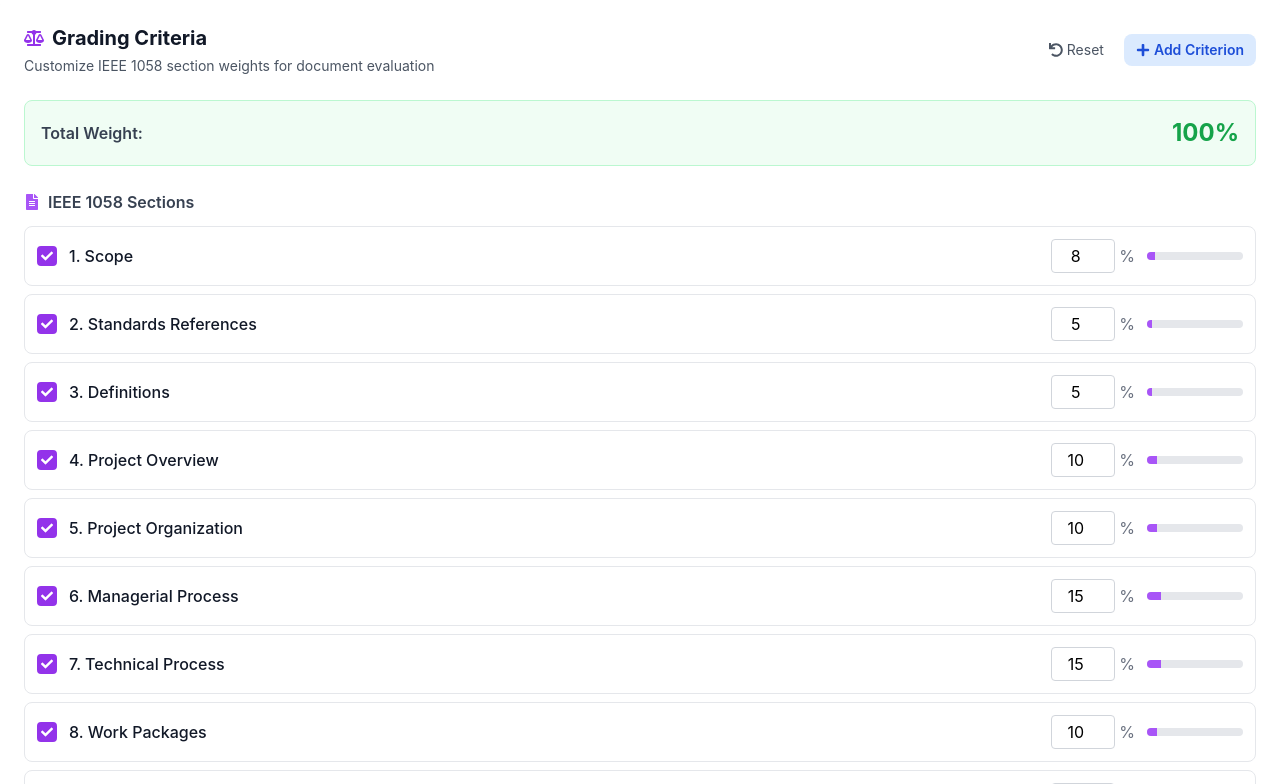
Test: editing a weight updates total and disables save when invalid
Check: the text "100%" is shown, box [1172,117,1239,149]
Note: change first weight from 8 to 10 (total becomes 102)
Replace the text in the number field in the row of "Scope" with "10" at {"x": 1083, "y": 256}, box [1051,239,1115,273]
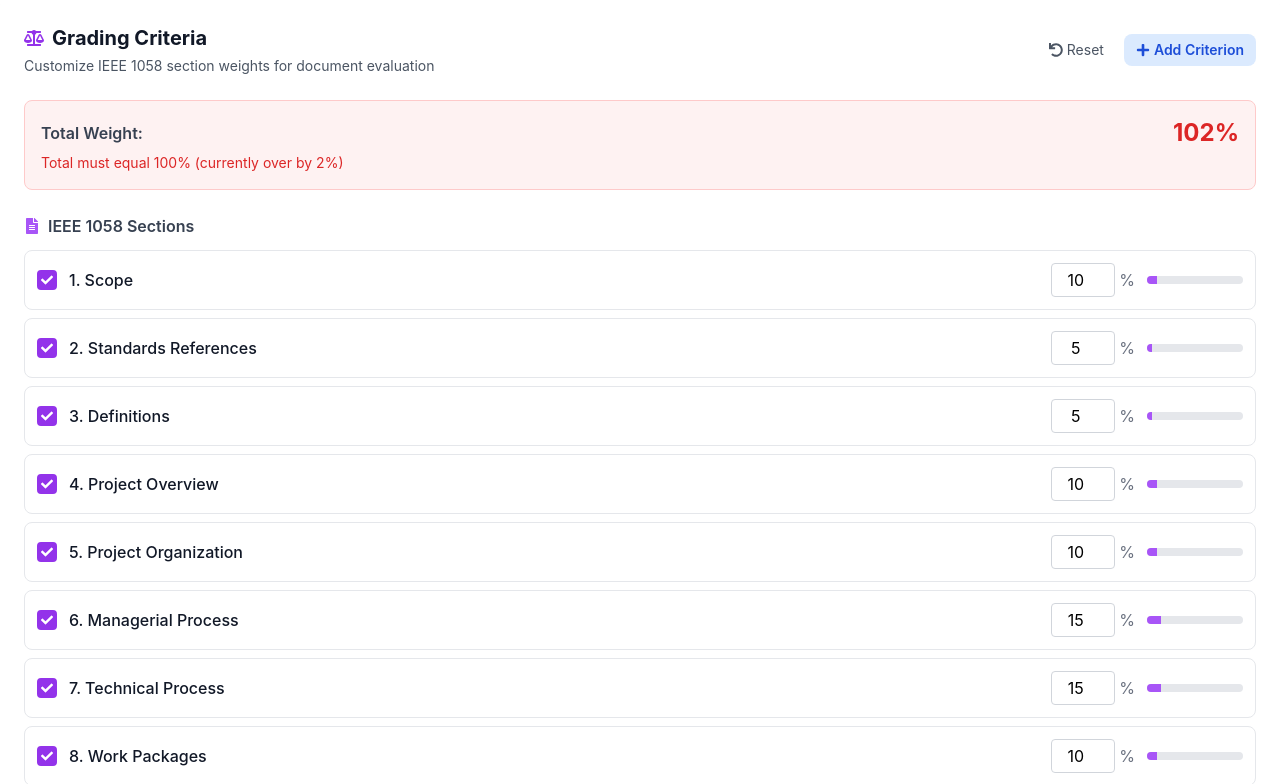
Check: the text "102%" is shown, box [1173,117,1239,149]
Check: the text "Total must equal 100% (currently over by 2%)" is shown, box [41,154,344,171]
